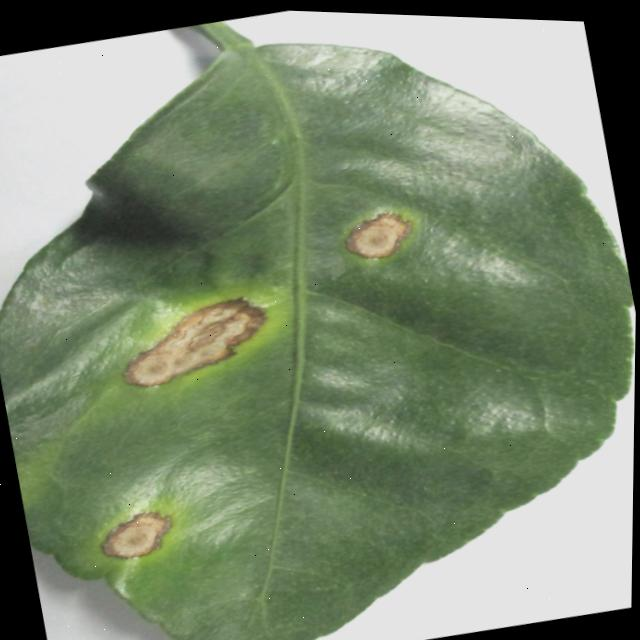antracnose: (0, 22, 634, 640), (123, 299, 265, 386), (101, 512, 170, 558), (345, 213, 410, 258)
